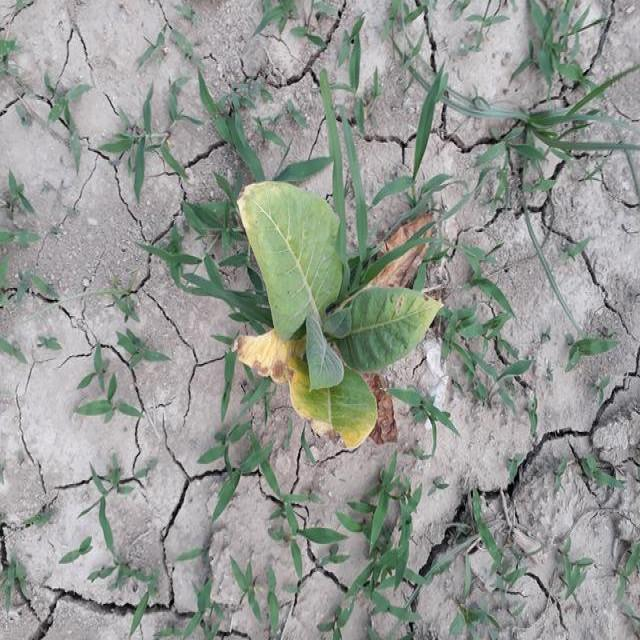crop: (234, 171, 450, 468)
